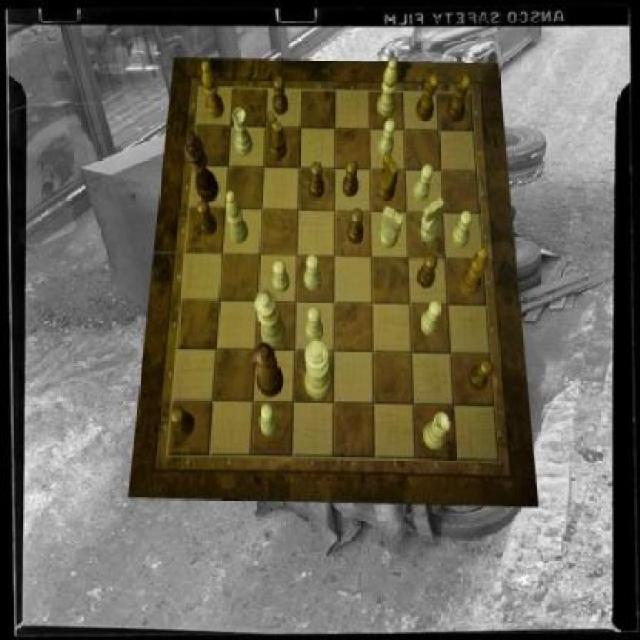bishop: (460, 248, 488, 297), (202, 62, 224, 120)
black-bishop: (185, 130, 220, 202)
black-king: (377, 154, 399, 201), (266, 111, 287, 160)
black-knight: (469, 360, 494, 392), (170, 408, 194, 438), (197, 200, 217, 236), (417, 254, 438, 288), (272, 77, 288, 115), (310, 162, 326, 198), (343, 162, 359, 198), (348, 209, 364, 244)
black-pawn: (252, 343, 282, 398)
black-queen: (415, 74, 438, 121), (448, 74, 470, 121)
black-rook: (226, 190, 249, 244), (377, 60, 397, 118)
white-bishop: (304, 340, 332, 400)
white-king: (420, 197, 445, 243), (380, 206, 405, 249)
white-knight: (420, 302, 442, 336), (452, 211, 472, 248), (414, 164, 434, 200), (304, 256, 322, 292), (379, 119, 396, 156), (305, 306, 322, 342), (272, 261, 290, 294), (259, 405, 276, 437)
white-pawn: (256, 289, 286, 347)
white-queen: (423, 412, 450, 450), (234, 109, 254, 157)
